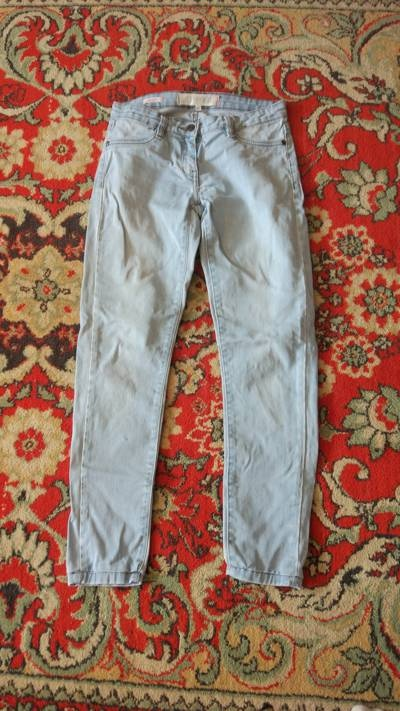Pants: (57, 58, 363, 618)
